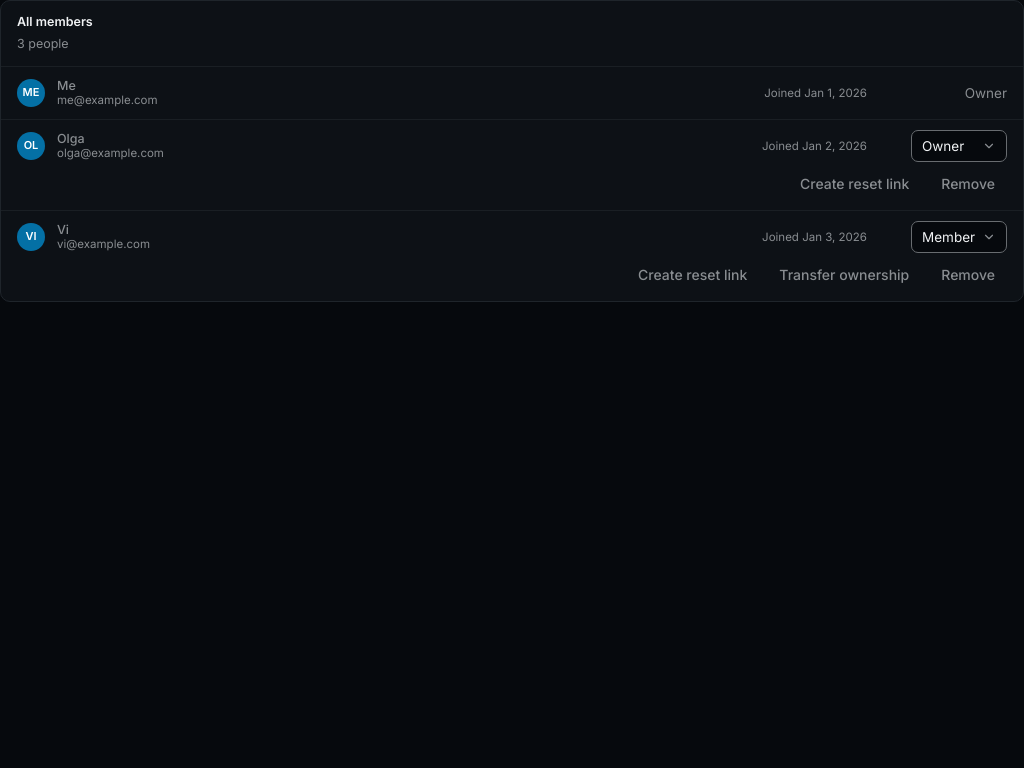
Test: Members › Create reset link › creates nothing when the question is cancelled
This screenshot has width=1024, height=768.
Click the button with aria-label "Create reset link for Vi". click: (693, 275)
box: x1=626 y1=259 x2=759 y2=291
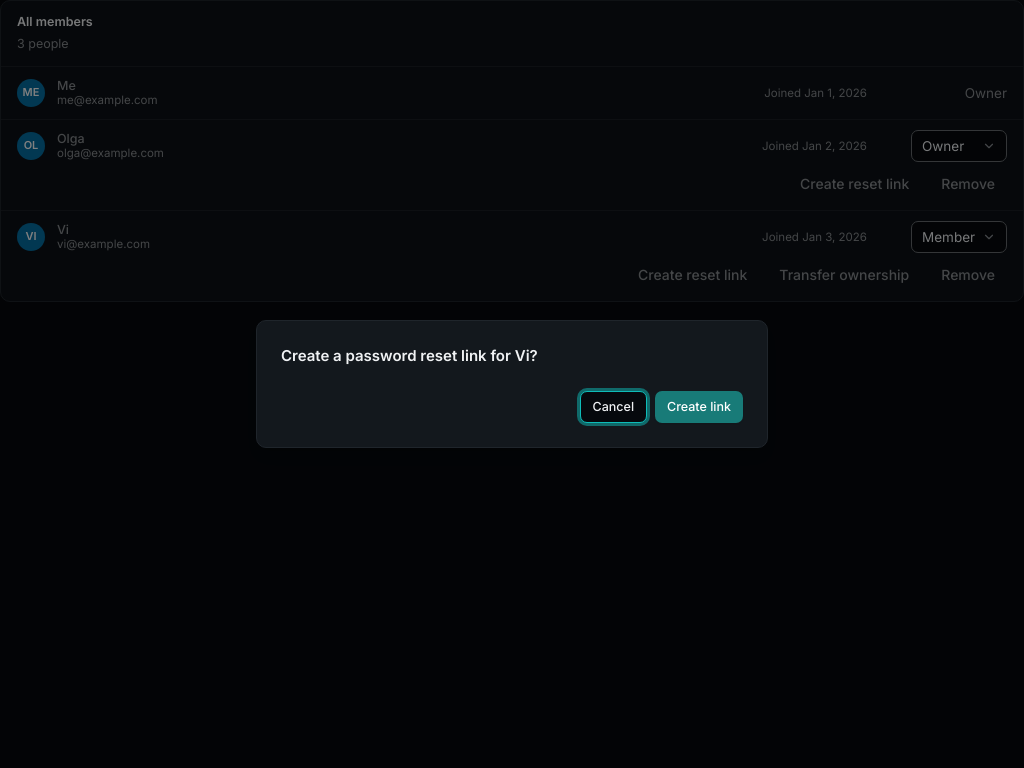
Click the button "Cancel". click: (613, 407)
box: x1=580 y1=391 x2=647 y2=423
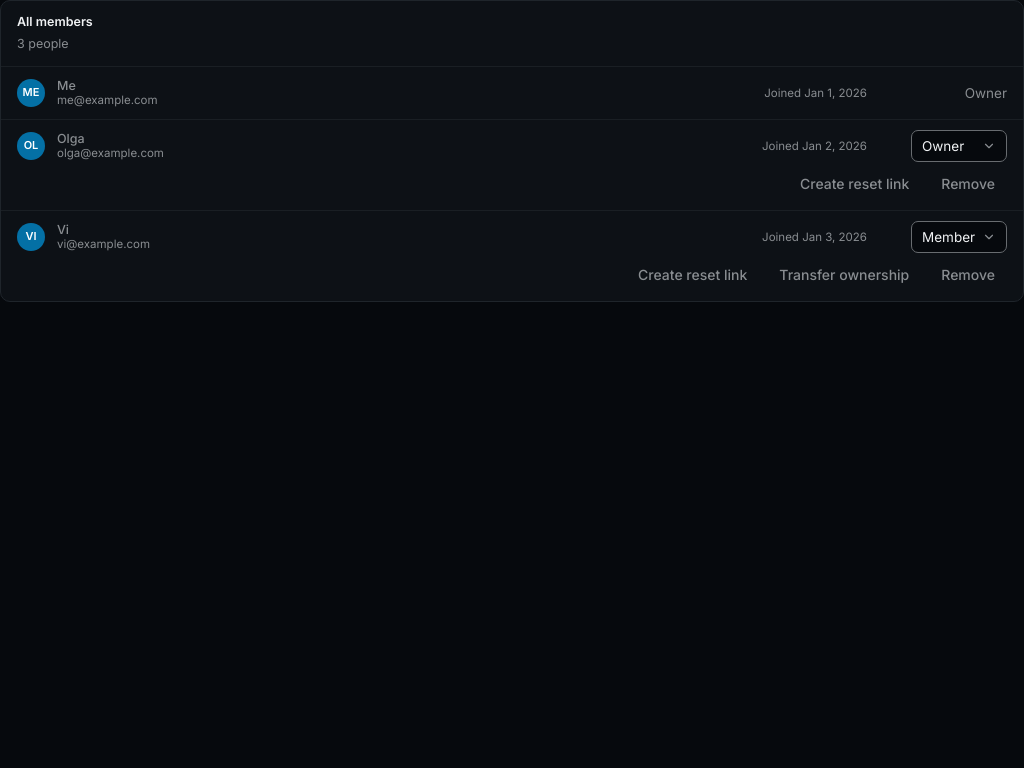
Check: the dialog is gone
Check: the heading "password reset link" is gone
